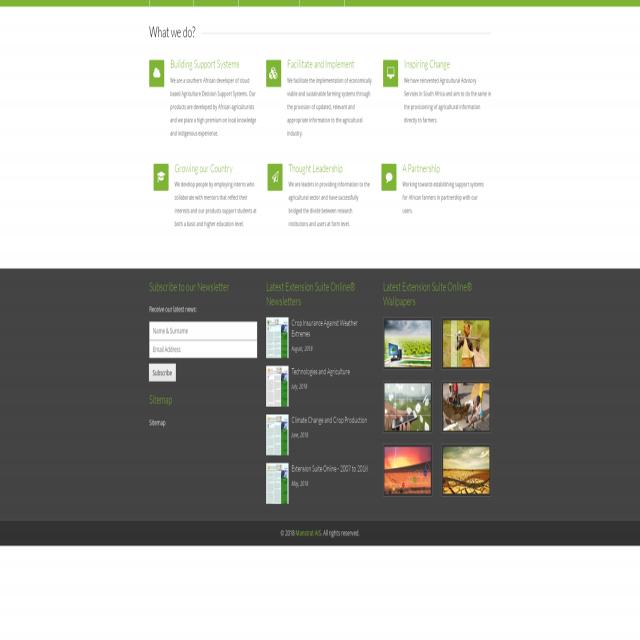button: (384, 320, 430, 368), (443, 320, 489, 368), (384, 384, 430, 431), (443, 384, 489, 431), (384, 447, 430, 494), (443, 447, 489, 494), (266, 317, 289, 359), (266, 414, 289, 456), (266, 463, 289, 505), (266, 366, 289, 407), (149, 364, 176, 382), (381, 164, 397, 191), (149, 60, 164, 87), (266, 60, 281, 87), (383, 60, 398, 87), (154, 164, 168, 191), (268, 164, 282, 191)
field: (149, 322, 257, 340), (149, 340, 257, 358)
